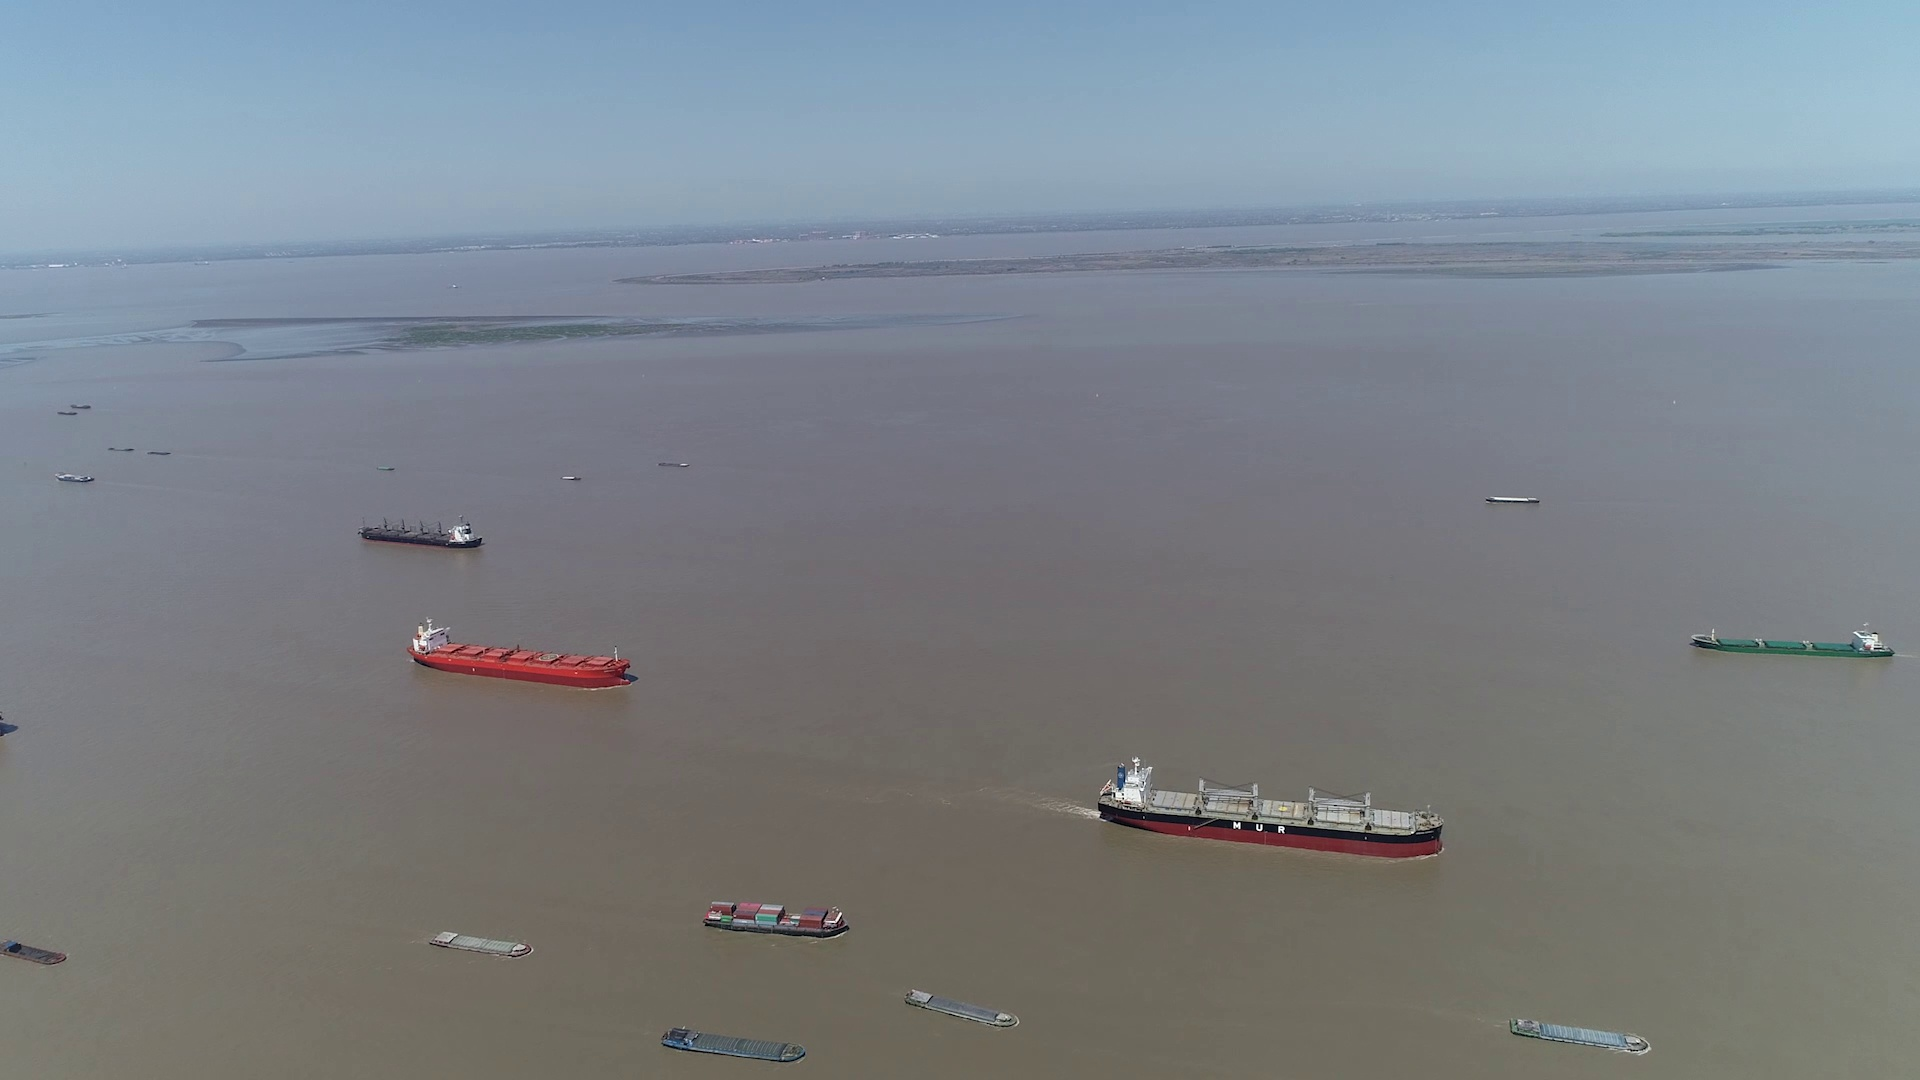ship: (1098, 758, 1444, 857), (409, 621, 632, 688), (1691, 628, 1898, 659), (1507, 1017, 1650, 1054), (661, 1029, 802, 1065), (703, 903, 848, 939), (905, 988, 1019, 1030), (360, 516, 484, 549), (429, 930, 533, 957), (0, 934, 66, 967), (1484, 495, 1540, 506), (54, 471, 95, 483)
